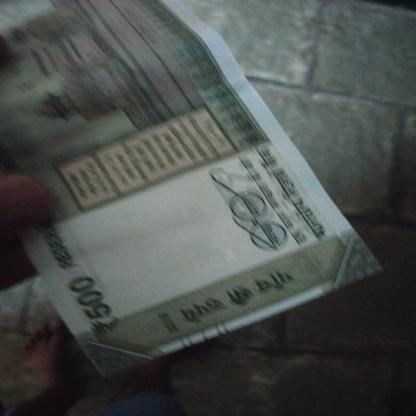New500Back: (0, 1, 255, 330)
